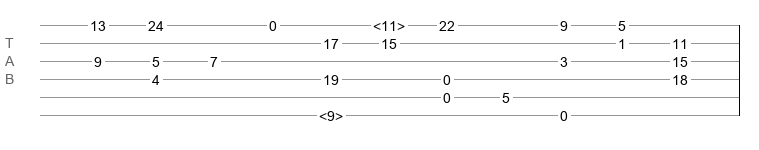0: (269, 18, 277, 28), (443, 72, 451, 82), (443, 90, 451, 100), (560, 108, 568, 118)
1: (618, 36, 626, 46)
11: (672, 36, 688, 46)
13: (90, 18, 106, 28)
15: (381, 36, 397, 46), (672, 54, 688, 64)
17: (323, 36, 339, 46)
18: (672, 72, 688, 82)
19: (323, 72, 339, 82)
22: (439, 18, 455, 28)
24: (148, 18, 164, 28)
3: (560, 54, 568, 64)
4: (152, 72, 160, 82)
5: (152, 54, 160, 64), (502, 90, 510, 100), (618, 18, 626, 28)
7: (210, 54, 218, 64)
9: (94, 54, 102, 64), (560, 18, 568, 28)
harmonic: (373, 18, 405, 28), (319, 108, 343, 118)
